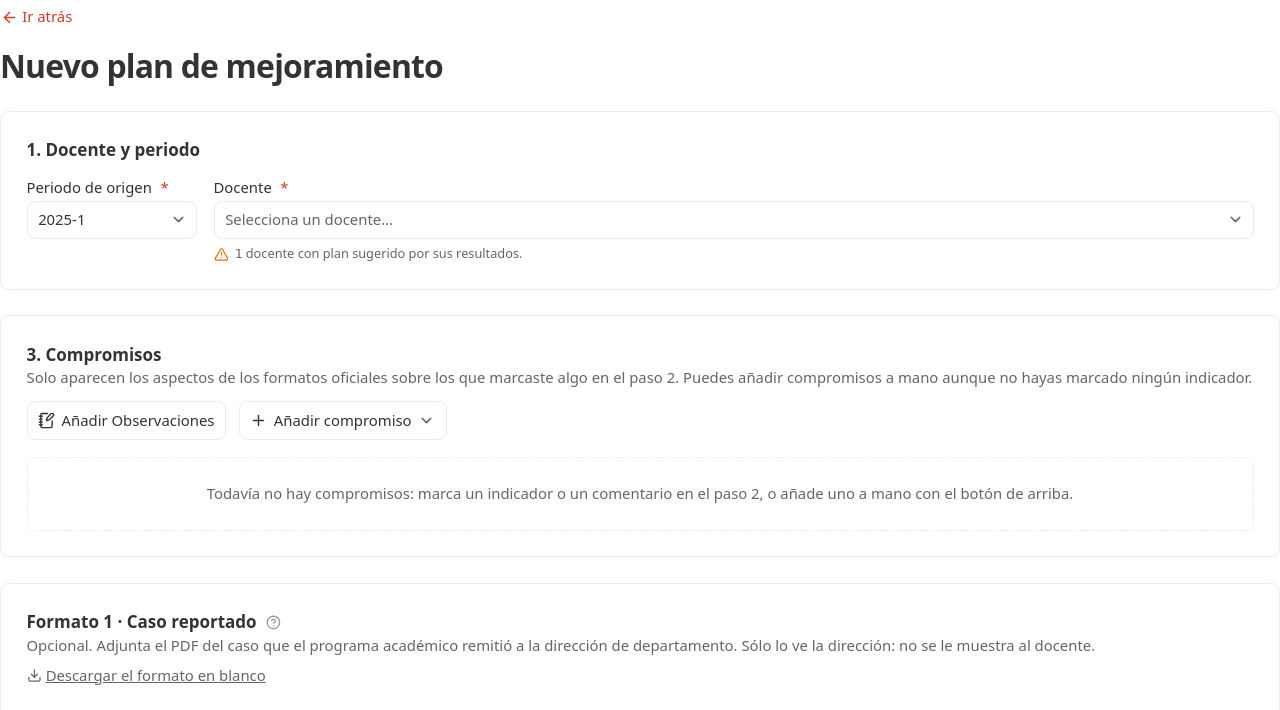
Scenario: PlanFormPage · creación › lista las observaciones guardadas junto a los compromisos, y deja quitarlas
Click the button "Añadir Observaciones". click: (126, 421)
box: [26,401,226,440]
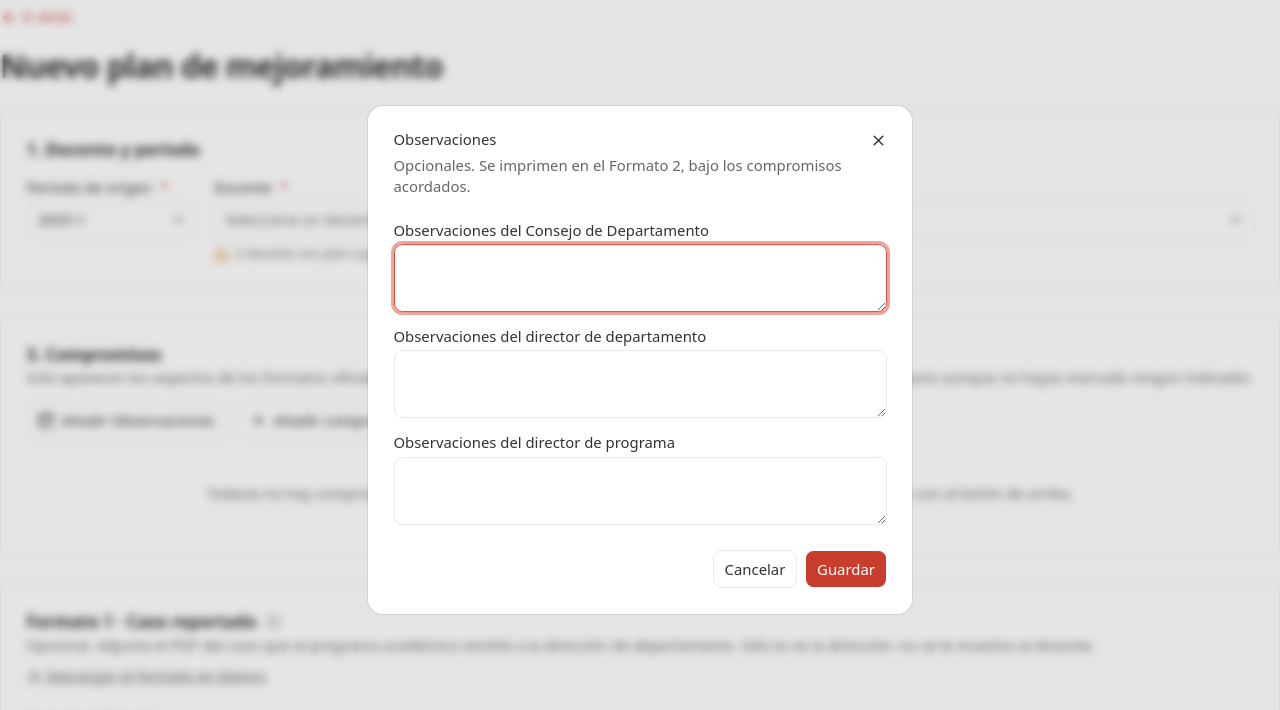
Type "Acompañamiento quincenal" into the text box labelled "Observaciones del director de departamento". click: (640, 384)
box: [394,350,886,418]
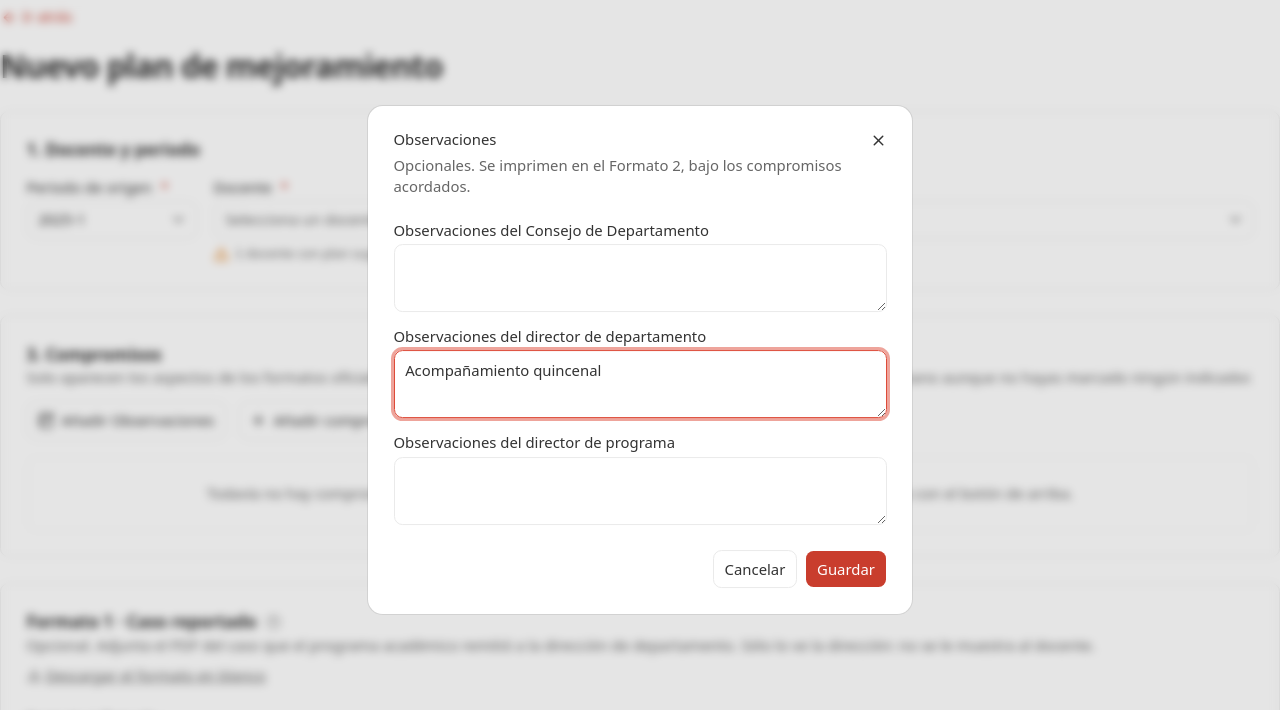
Click the button "Guardar". click: (846, 569)
box: [806,550,886,588]
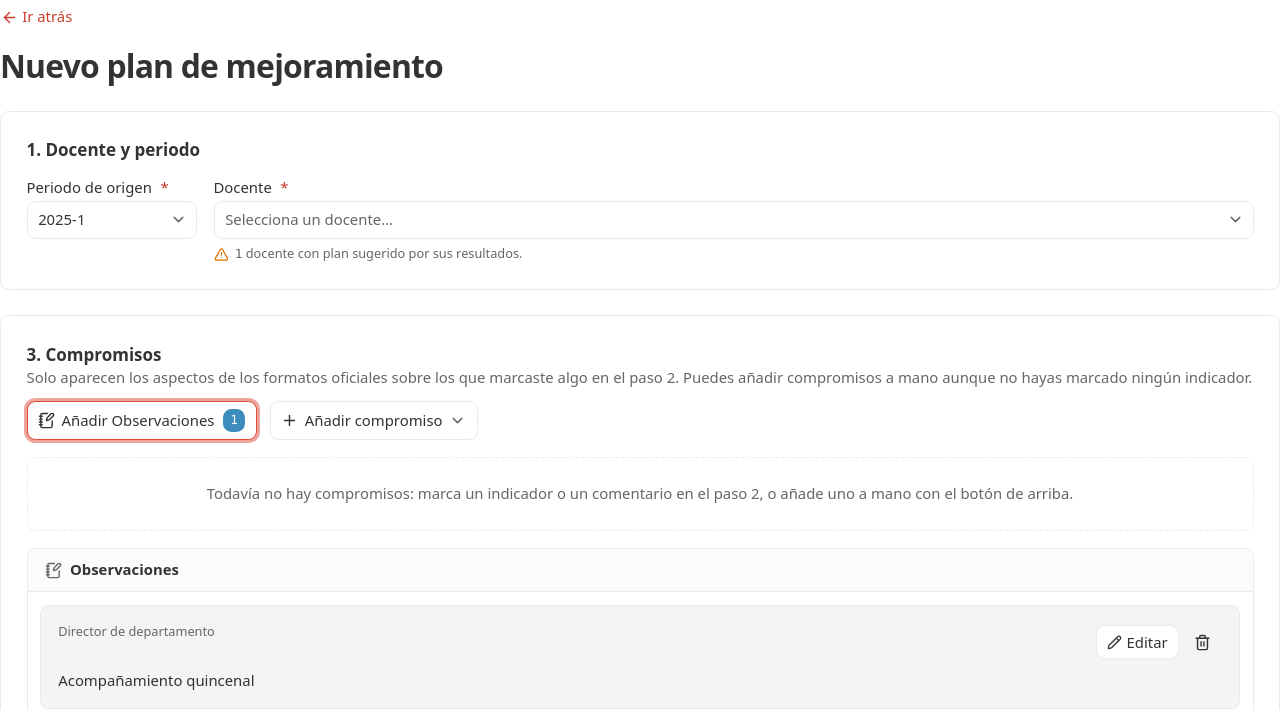
Check: the text "Acompañamiento quincenal" is shown, box [58,670,254,690]
Click the button named "Quitar la observación del director de departamento". click: (1203, 642)
box: [1184,623,1222,661]
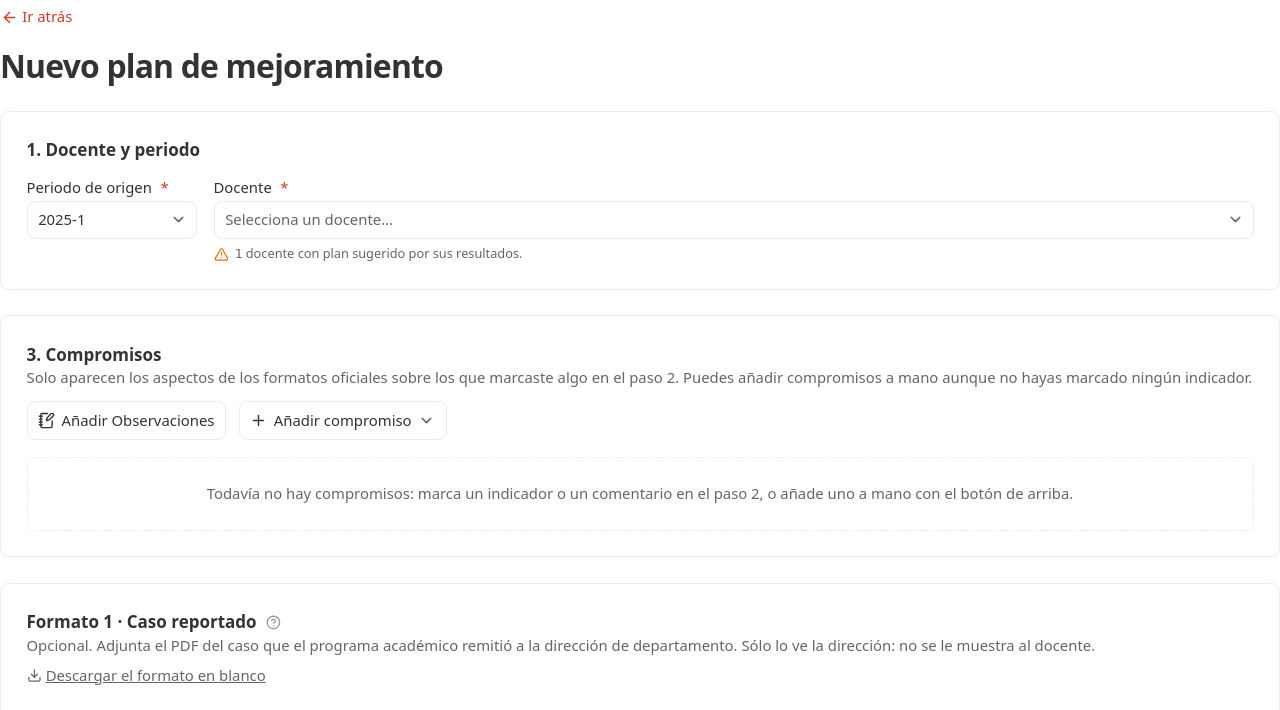
Check: the text "Acompañamiento quincenal" is gone
Check: the button "Añadir Observaciones" is shown, box [26,401,226,440]
